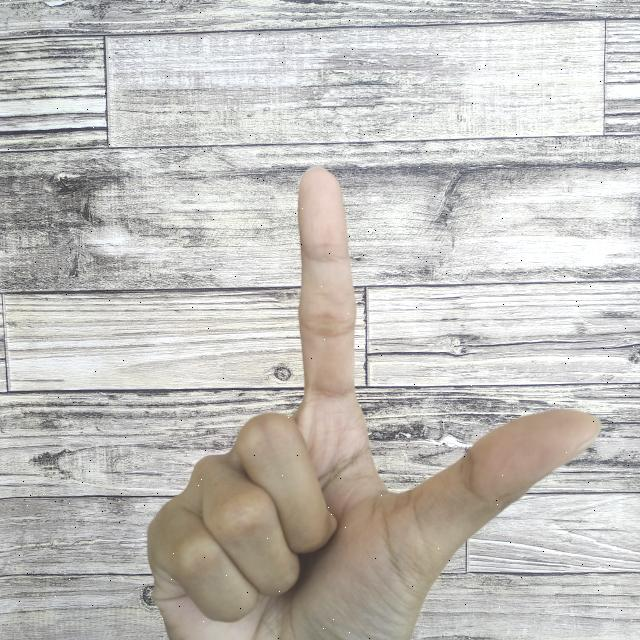L: (139, 162, 606, 640)
